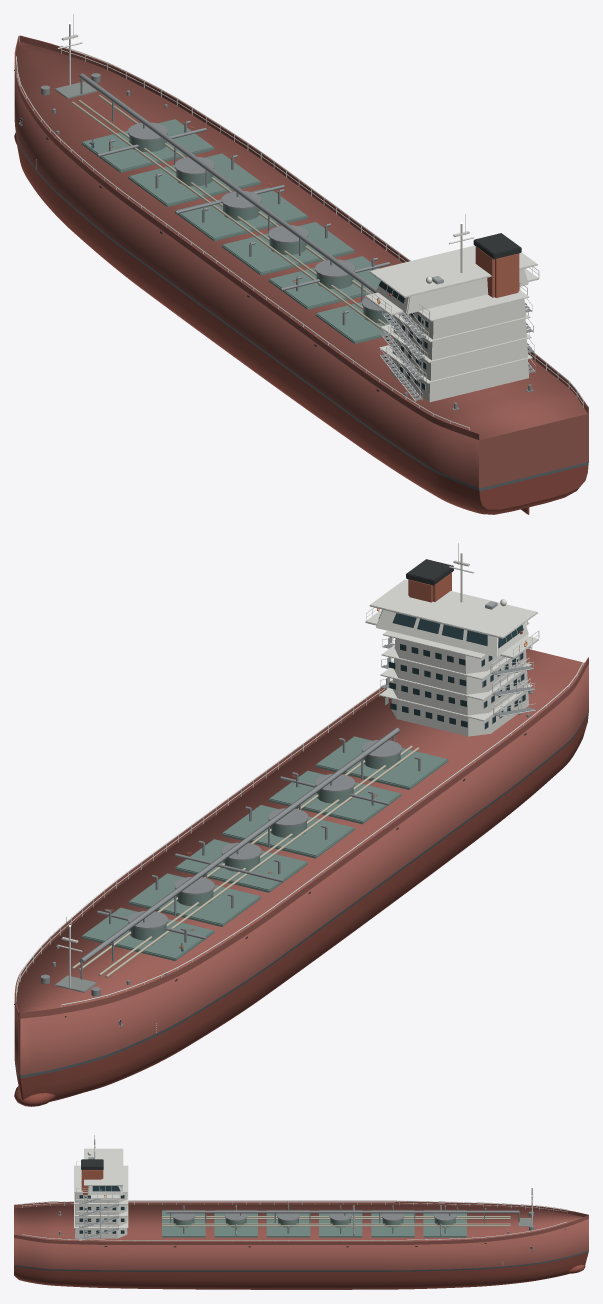
The model's file is tanker.glb.
The picture shows the model from 3 angles, top to bottom: view 1: azimuth 30°, elevation 25°; view 2: azimuth 150°, elevation 25°; view 3: azimuth 270°, elevation 25°; orthographic projection. The views are drawn at different scales.
Parts seen in each view (by area): view 1: hull, white, green, bottom, metal, sand, stripe, red, black; view 2: hull, white, green, bottom, metal, window, sand, stripe, red, black; view 3: hull, bottom, white, green, metal, sand, stripe, window, red, black, frame.
Boxes of the visible parts, box(x1,y1,x2,y2) form: hull: box(14, 35, 588, 488); white: box(16, 24, 583, 430); green: box(81, 119, 392, 343); bottom: box(14, 132, 588, 514); metal: box(18, 14, 535, 410); sand: box(71, 95, 386, 331); stripe: box(16, 133, 588, 491); red: box(109, 126, 519, 297); black: box(14, 70, 521, 391); hull: box(14, 649, 588, 1075); white: box(16, 553, 583, 1032); green: box(81, 736, 448, 961); bottom: box(14, 715, 588, 1106); metal: box(41, 543, 535, 1027); window: box(378, 610, 525, 728); sand: box(71, 745, 419, 977); stripe: box(15, 655, 588, 1078); red: box(109, 572, 522, 930); black: box(14, 559, 526, 1023); hull: box(14, 1201, 588, 1270); bottom: box(14, 1252, 588, 1289); white: box(22, 1139, 567, 1265); green: box(100, 1189, 466, 1237); metal: box(58, 1135, 533, 1251); sand: box(162, 1216, 510, 1226); stripe: box(14, 1195, 588, 1271); window: box(79, 1186, 124, 1233); red: box(81, 1170, 441, 1228); black: box(81, 1159, 565, 1248); frame: box(79, 1157, 124, 1233).
Size of the model in its own units: 22.08 by 36.1 by 132.
